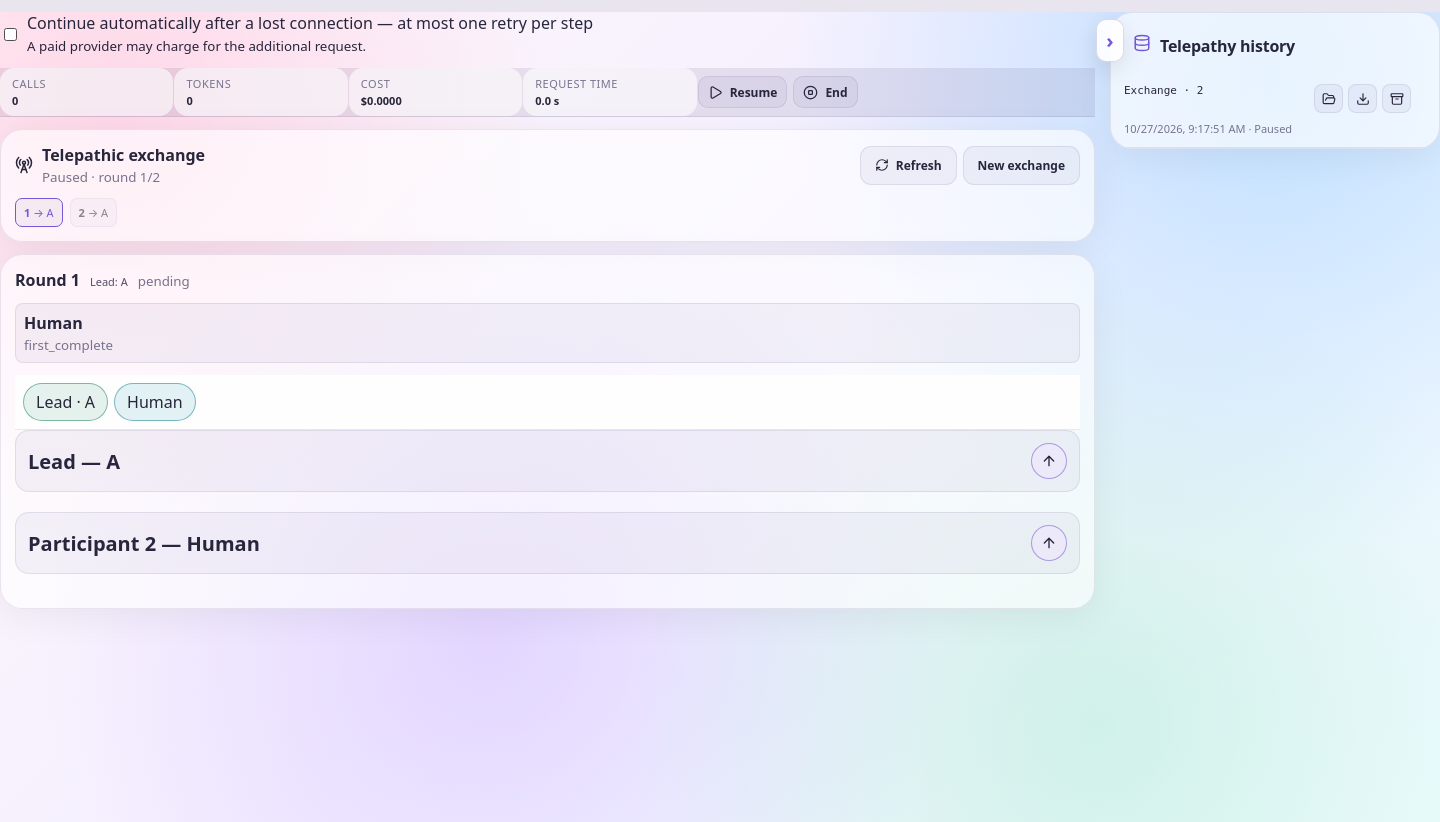
Test: mounted Conversation audit regressions › rejects a late polling result after workspace change
Click the button "Resume": (742, 92) [698, 76, 787, 108]
Wait 550 ms
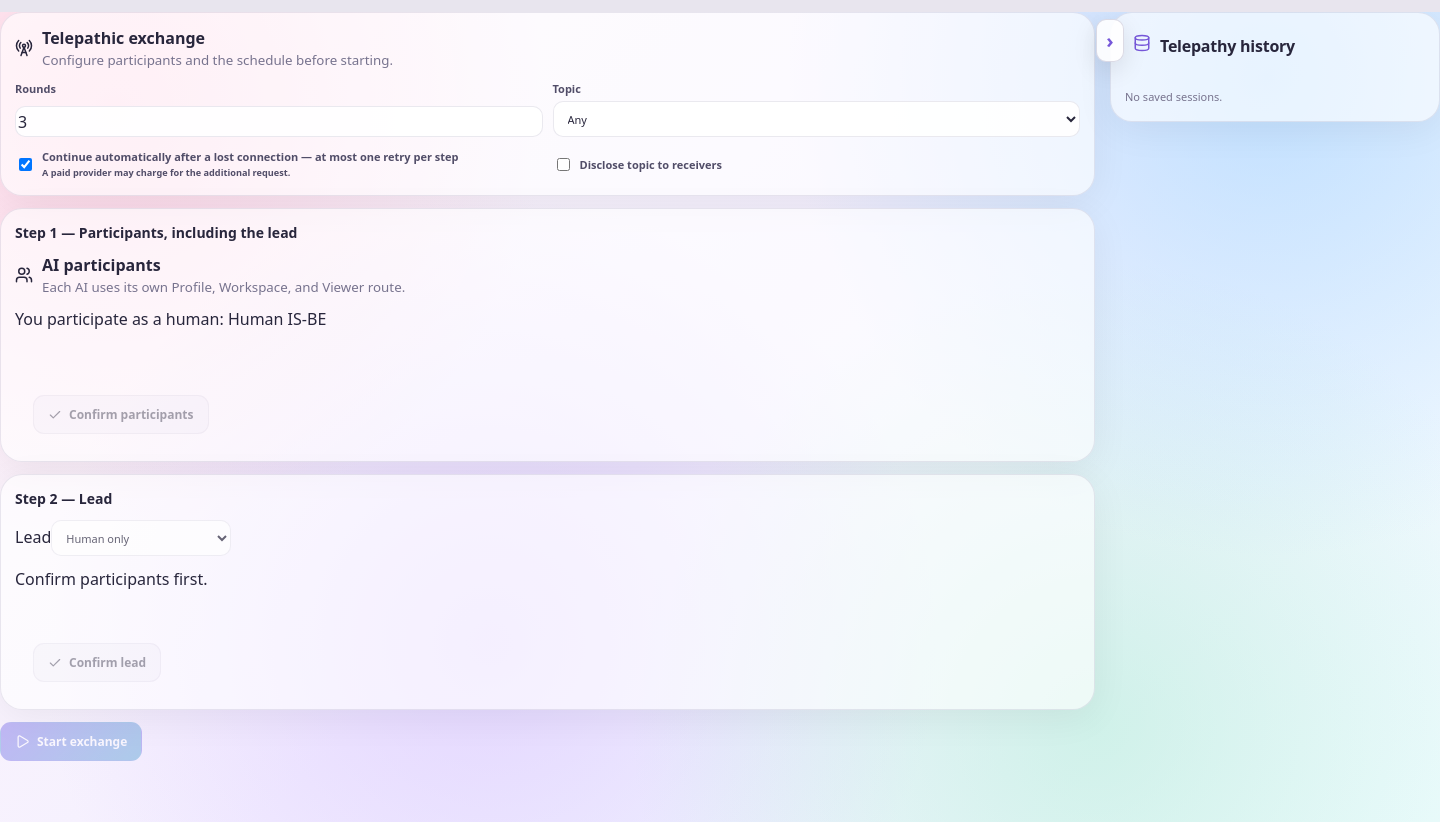
Expected: the element with class "telepathic-run-head" is gone
